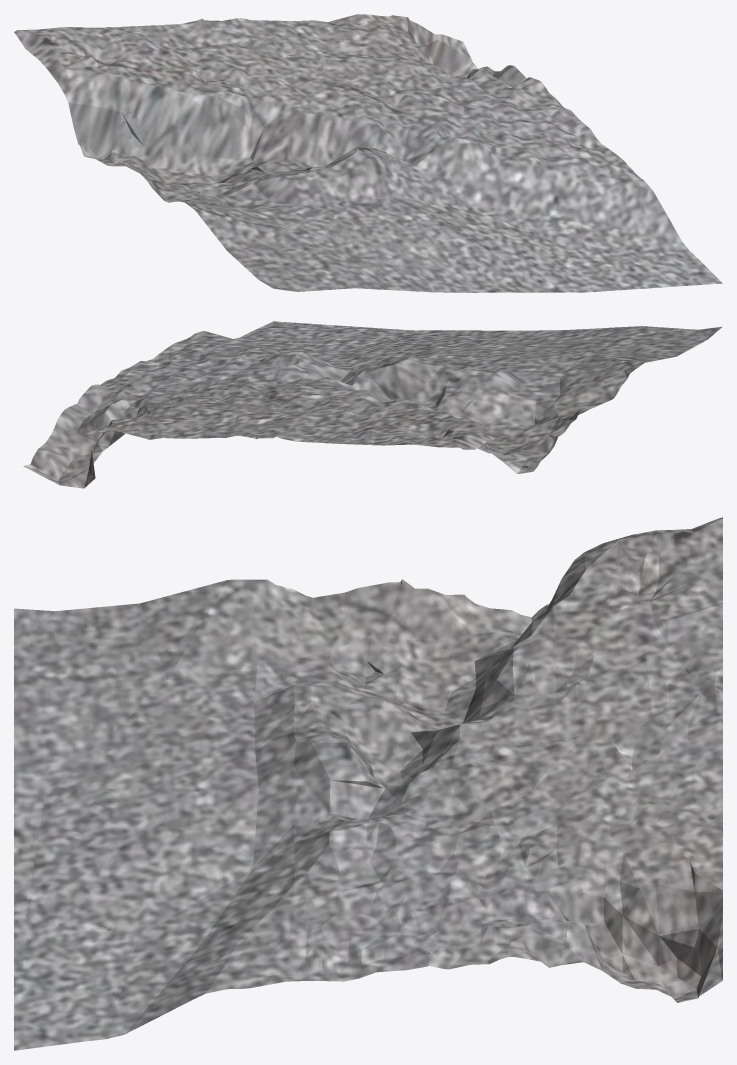
3 views of the same model, one above another, from view 1: azimuth 30°, elevation 25°; view 2: azimuth 150°, elevation 25°; view 3: azimuth 270°, elevation 25° (orthographic). The views are drawn at different scales.
Bounding box in the file's own units: 0.8373 × 0.3067 × 0.8374.
Materials: 3 (3 with a texture image).
